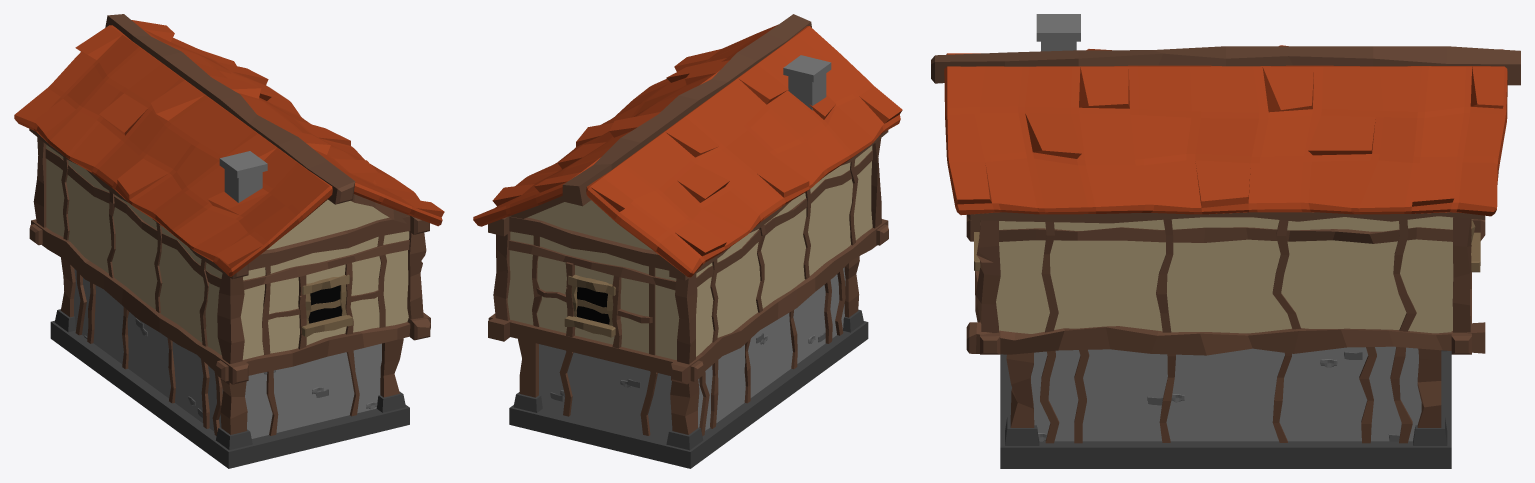
Rendered from House01.fbx.
The picture shows the model from 3 angles, left to right: view 1: azimuth 30°, elevation 25°; view 2: azimuth 150°, elevation 25°; view 3: azimuth 270°, elevation 25°; orthographic projection. The views are drawn at different scales.
Parts seen in each view (by area): view 1: House001; view 2: House001; view 3: House001.
Part boxes in pixels (left/top/right/bottom): House001: left=14, top=14, right=444, bottom=468; House001: left=473, top=14, right=902, bottom=468; House001: left=931, top=14, right=1520, bottom=468.
Bounding box in the file's own units: 1110 × 1349 × 2000.
